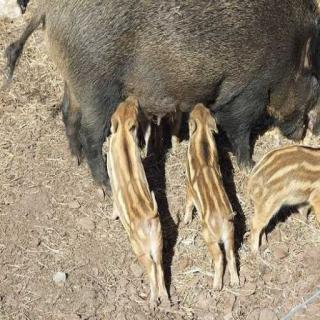Pig: (0, 0, 320, 152), (96, 78, 163, 280), (170, 70, 232, 284), (246, 128, 320, 252)
